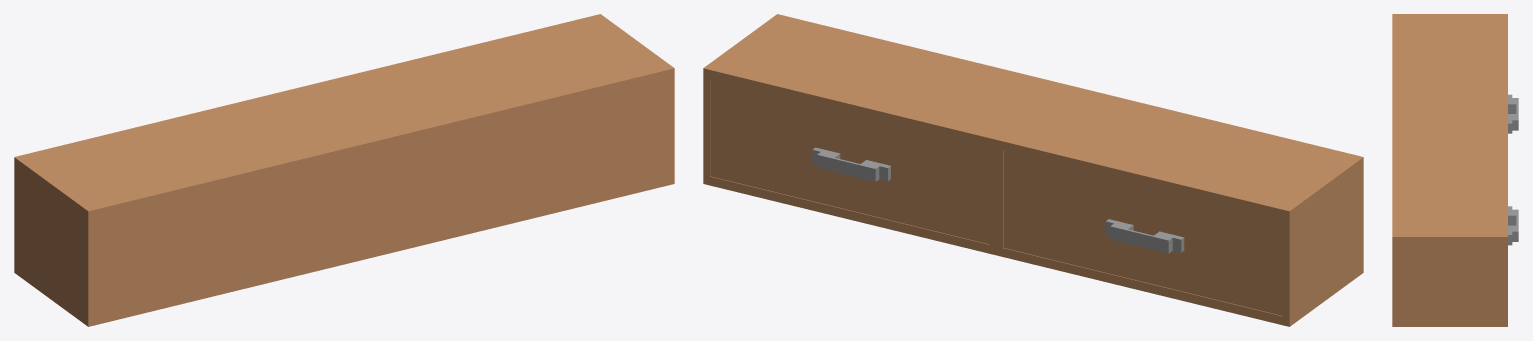
File: cabinet.fbx
3 views of the same model, side by side, from view 1: azimuth 30°, elevation 25°; view 2: azimuth 150°, elevation 25°; view 3: azimuth 270°, elevation 25° (orthographic). The views are drawn at different scales.
Parts seen in each view (by area): view 1: cabinet; view 2: cabinet; view 3: cabinet.
Part boxes in pixels (left/top/right/bottom): cabinet: left=14, top=14, right=674, bottom=326; cabinet: left=703, top=14, right=1363, bottom=326; cabinet: left=1392, top=14, right=1518, bottom=326.
Size of the model in its own units: 520 by 98.01 by 124.
